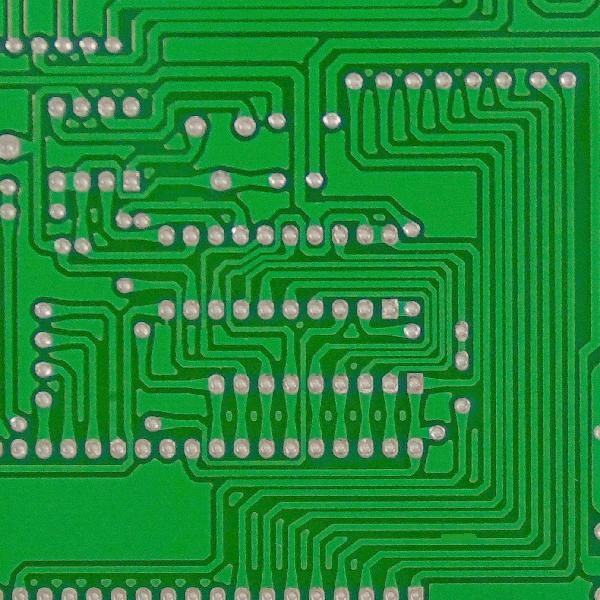spur: (438, 528, 482, 545), (171, 193, 210, 207)
